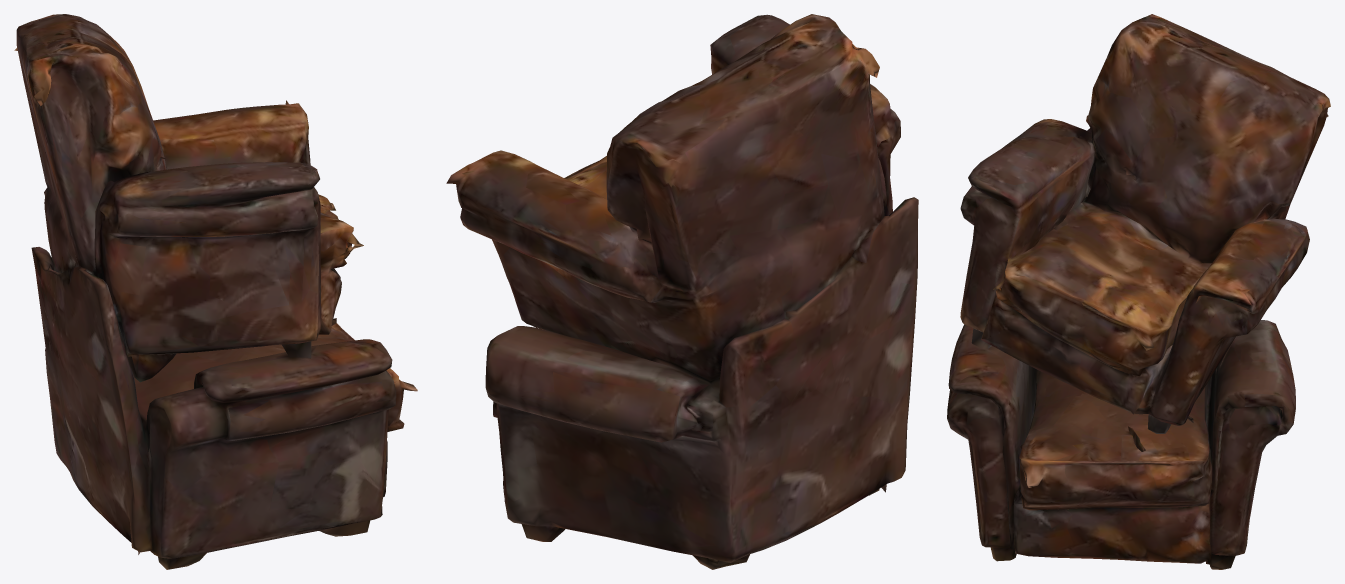
File: st_armpile.glb
The picture shows the model from 3 angles, left to right: view 1: azimuth 30°, elevation 25°; view 2: azimuth 150°, elevation 25°; view 3: azimuth 270°, elevation 25°; orthographic projection. The views are drawn at different scales.
Parts seen in each view (by area): view 1: tripo_node_65c6b2b3-6deb-411b-a7c8-2fa9d3aa3668; view 2: tripo_node_65c6b2b3-6deb-411b-a7c8-2fa9d3aa3668; view 3: tripo_node_65c6b2b3-6deb-411b-a7c8-2fa9d3aa3668.
Boxes of the visible parts, x1,y1,x2,y2 form: tripo_node_65c6b2b3-6deb-411b-a7c8-2fa9d3aa3668: [14, 14, 417, 569]; tripo_node_65c6b2b3-6deb-411b-a7c8-2fa9d3aa3668: [446, 14, 918, 569]; tripo_node_65c6b2b3-6deb-411b-a7c8-2fa9d3aa3668: [947, 14, 1330, 569].
Size of the model in its own units: 0.7032 by 0.9998 by 0.7788.
1 material, 1 textured.
